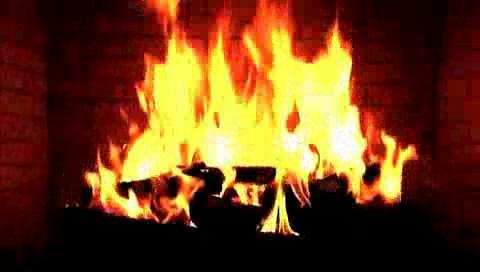fire: (93, 0, 420, 233)
